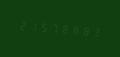eight: (57, 19, 66, 37), (67, 20, 76, 38), (77, 21, 86, 39)
five: (37, 18, 46, 35)
one: (27, 17, 36, 34)
seven: (47, 18, 56, 36)
three: (87, 22, 96, 40)
two: (17, 16, 26, 34)
